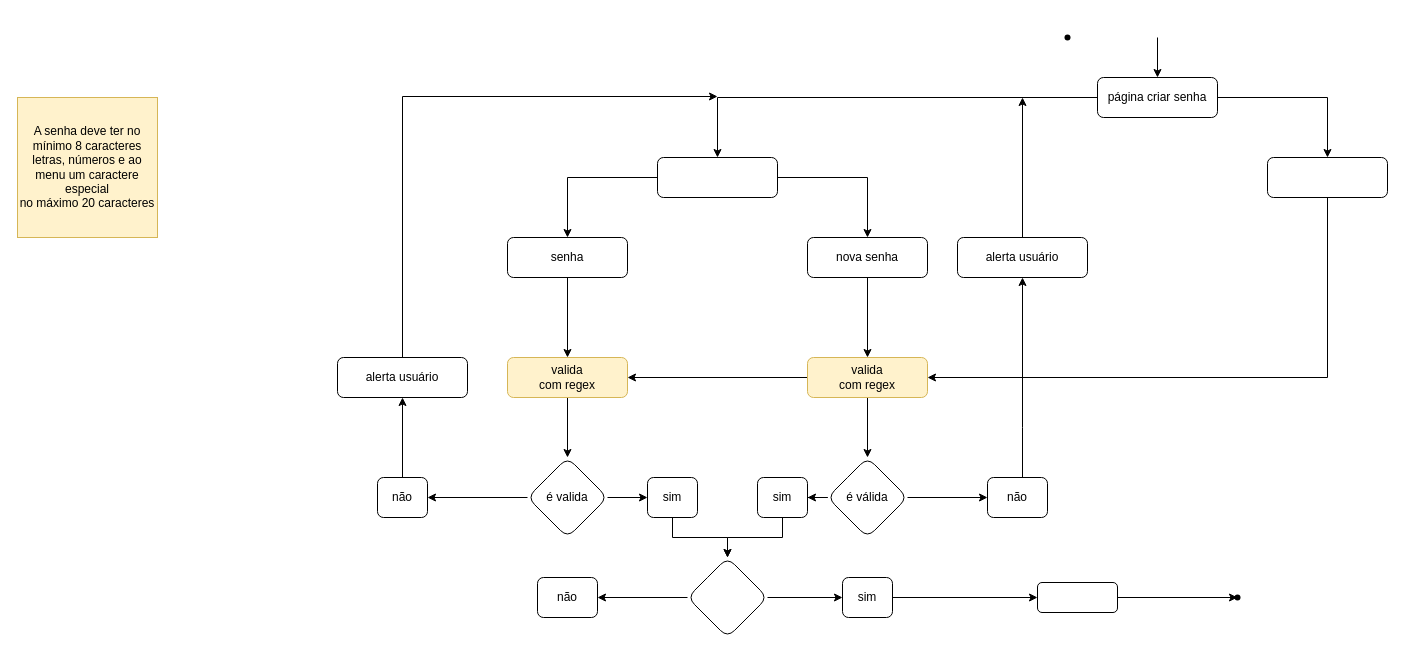
This 1405x655 diagram has some shape labels left out. The box of each missing label's shape, as (x1, y1, x2, y2) in pixels:
campos: (656, 156, 778, 198)
concluir: (1266, 156, 1388, 198)
página início: (1036, 582, 1118, 612)
são iguais: (686, 556, 768, 638)
